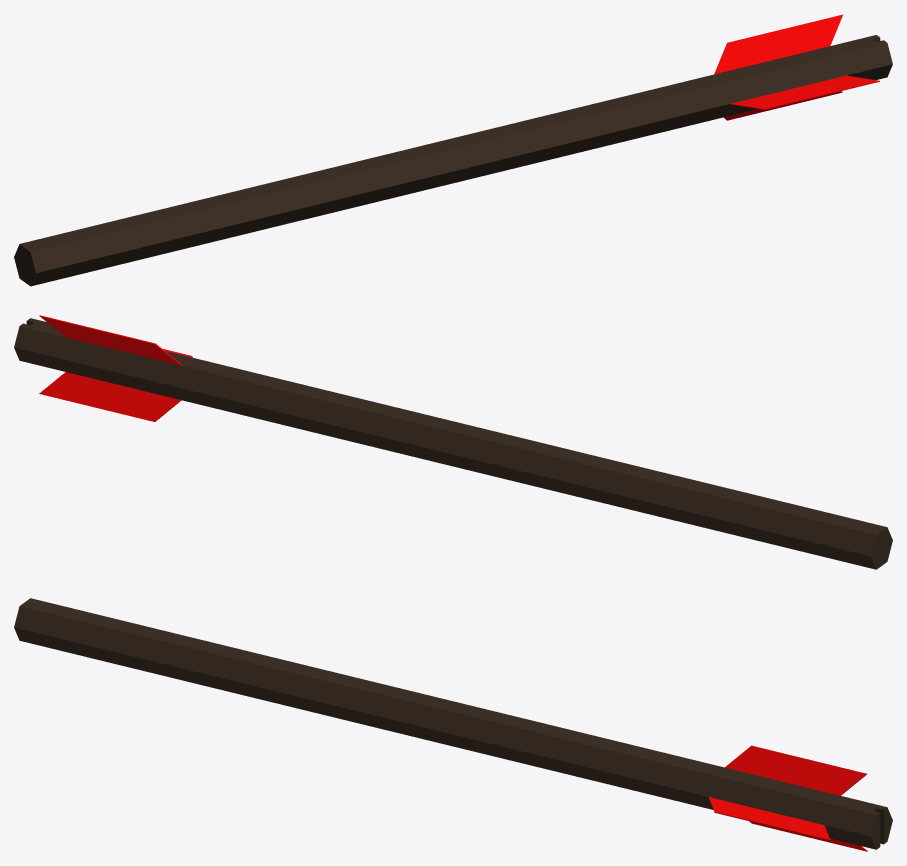
Rendered from arrowShaft.obj.
3 views of the same model, one above another, from view 1: azimuth 30°, elevation 25°; view 2: azimuth 150°, elevation 25°; view 3: azimuth 330°, elevation 25° (orthographic).
Parts seen in each view (by area): view 1: Cylinder; view 2: Cylinder; view 3: Cylinder.
Part boxes in pixels (bbox=[...]): Cylinder: bbox=[14, 14, 892, 286]; Cylinder: bbox=[14, 315, 892, 569]; Cylinder: bbox=[14, 598, 892, 851].
Bounding box in the file's own units: 0.9 × 0.0787 × 0.0684.
